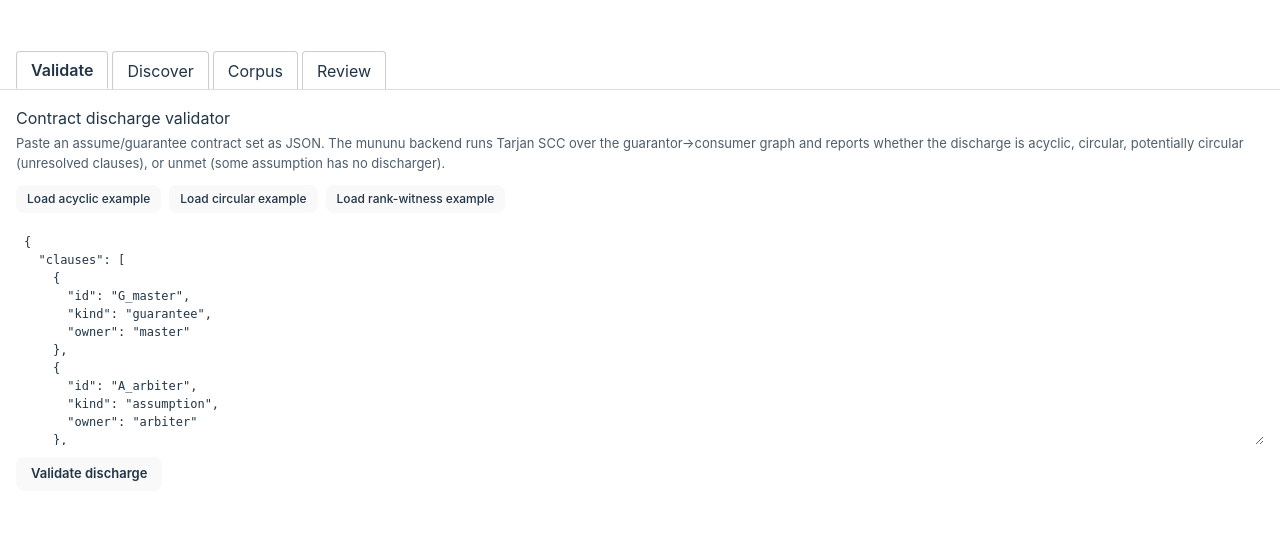
Scenario: ContractPanel › Corpus tab shows 'no matching entries' when candidates is empty
The width and height of the screenshot is (1280, 543).
Click the button "Corpus" at (255, 70), box 213,51 -> 298,89
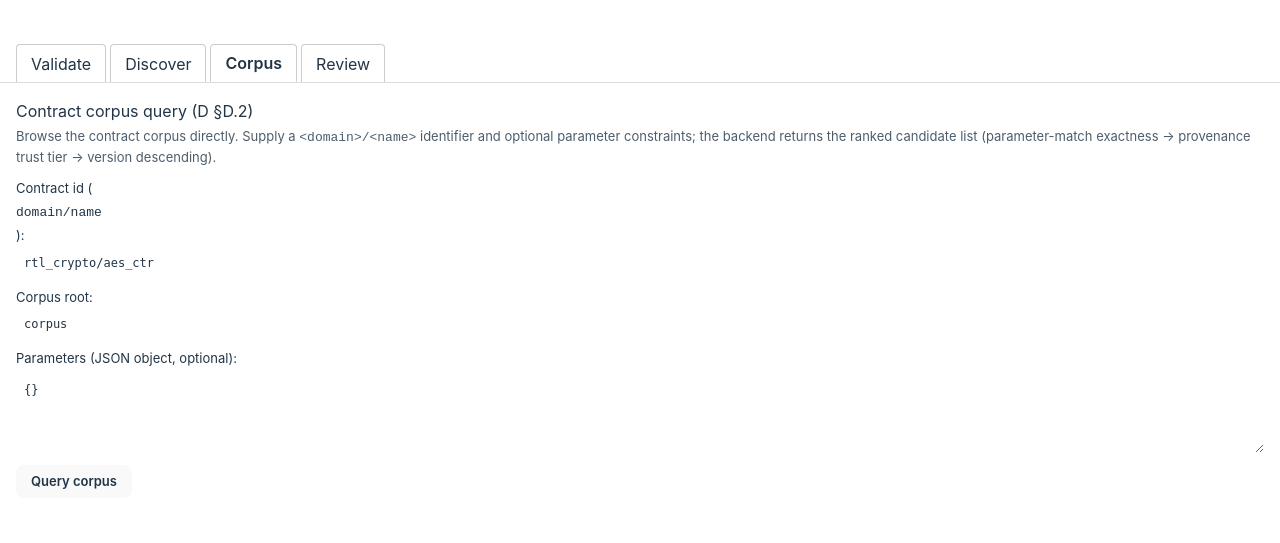
Click the button "Query corpus" at (74, 481), box 16,464 -> 132,498
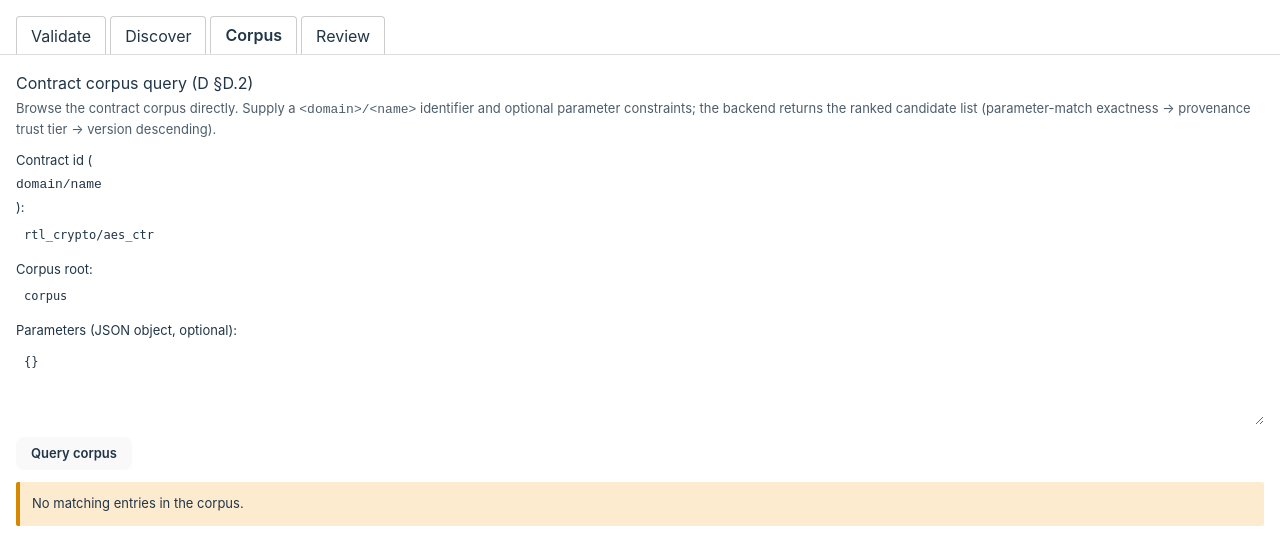
Expected: the text "No matching entries in the corpus." is shown, 16,482 -> 1264,526
